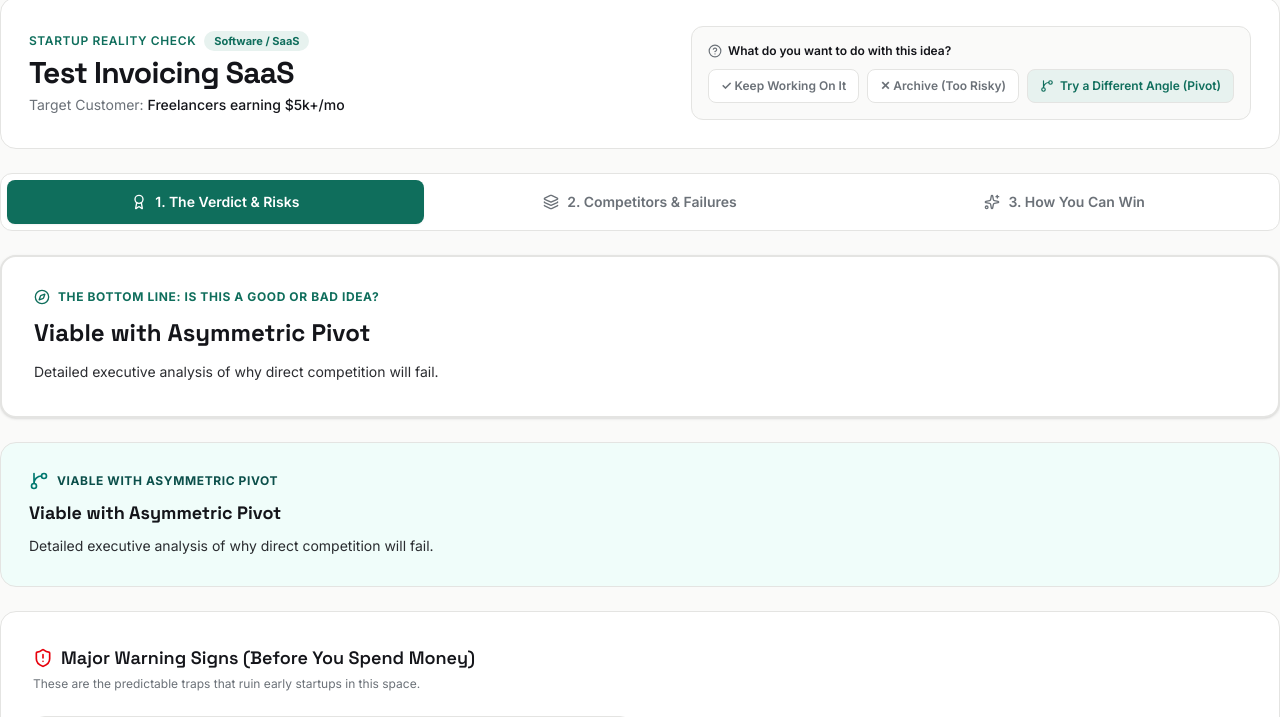
it: ReportView Component › renders the customer discovery questions when tab 3 is clicked
The image size is (1280, 717).
Click the tab "3. How You Can Win" at (1065, 202), box [856,180,1273,224]
(page scrolled)
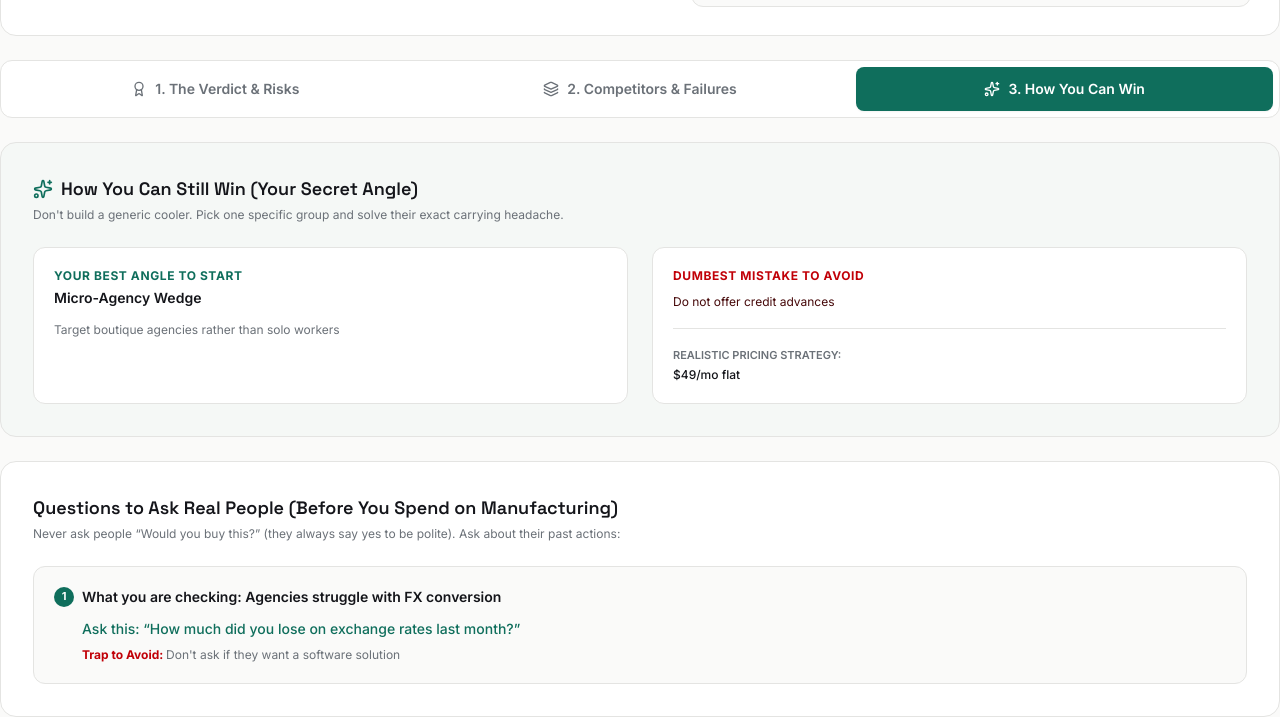
Result: the text "How much did you lose on exchange rates last month?" is shown at [150,620,514,636]
